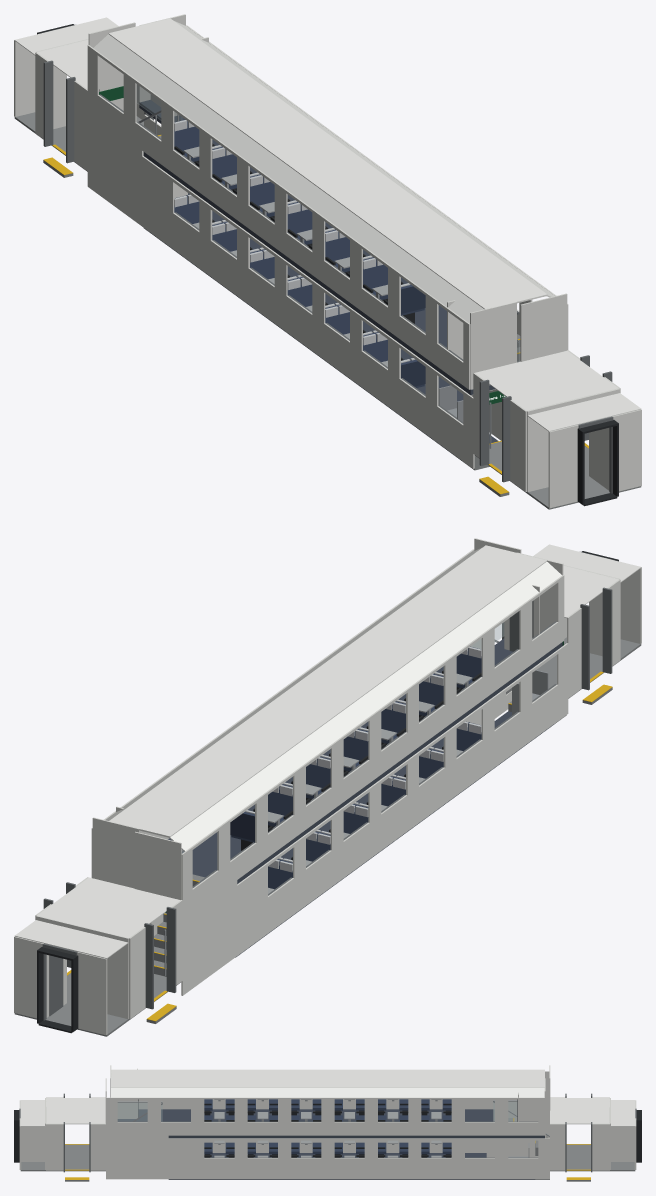
Rendered from ed_sisa_m.glb.
3 views of the same model, one above another, from view 1: azimuth 30°, elevation 25°; view 2: azimuth 150°, elevation 25°; view 3: azimuth 270°, elevation 25° (orthographic). The views are drawn at different scales.
Visible parts, largest first — view 1: sisa_S_seina, sisa_S_katto, sisa_S_verhoilu, sisa_S_kehys, sisa_S_matto, sisa_S_niskatuki, sisa_S_muovimatto, sisa_S_tumma, sisa_S_teras, sisa_S_poyta; view 2: sisa_S_seina, sisa_S_katto, sisa_S_verhoilu, sisa_S_kehys, sisa_S_matto, sisa_S_muovimatto, sisa_S_niskatuki, sisa_S_tumma, sisa_S_poyta, sisa_S_teras; view 3: sisa_S_seina, sisa_S_katto, sisa_S_matto, sisa_S_verhoilu, sisa_S_muovimatto, sisa_S_tumma, sisa_S_poyta, sisa_S_kehys, sisa_S_lasi, sisa_S_teras, sisa_S_askelreuna.
Part boxes in pixels (x1=…): sisa_S_seina: x1=14, y1=14, x2=641, y2=508; sisa_S_katto: x1=14, y1=17, x2=641, y2=431; sisa_S_verhoilu: x1=174, y1=119, x2=425, y2=387; sisa_S_kehys: x1=43, y1=24, x2=613, y2=493; sisa_S_matto: x1=139, y1=100, x2=498, y2=460; sisa_S_niskatuki: x1=174, y1=120, x2=415, y2=363; sisa_S_muovimatto: x1=14, y1=112, x2=641, y2=509; sisa_S_tumma: x1=37, y1=24, x2=618, y2=506; sisa_S_teras: x1=138, y1=110, x2=519, y2=448; sisa_S_poyta: x1=183, y1=146, x2=387, y2=366; sisa_S_seina: x1=14, y1=538, x2=641, y2=1035; sisa_S_katto: x1=15, y1=544, x2=641, y2=958; sisa_S_verhoilu: x1=230, y1=646, x2=481, y2=889; sisa_S_kehys: x1=42, y1=551, x2=612, y2=1020; sisa_S_matto: x1=168, y1=638, x2=562, y2=957; sisa_S_muovimatto: x1=14, y1=637, x2=641, y2=1036; sisa_S_niskatuki: x1=245, y1=647, x2=481, y2=872; sisa_S_tumma: x1=37, y1=551, x2=618, y2=1033; sisa_S_poyta: x1=268, y1=673, x2=472, y2=893; sisa_S_teras: x1=163, y1=639, x2=548, y2=975; sisa_S_seina: x1=19, y1=1065, x2=636, y2=1179; sisa_S_katto: x1=20, y1=1069, x2=635, y2=1126; sisa_S_matto: x1=117, y1=1109, x2=544, y2=1179; sisa_S_verhoilu: x1=204, y1=1099, x2=451, y2=1154; sisa_S_muovimatto: x1=20, y1=1109, x2=635, y2=1181; sisa_S_tumma: x1=14, y1=1103, x2=641, y2=1162; sisa_S_poyta: x1=214, y1=1099, x2=441, y2=1157; sisa_S_kehys: x1=19, y1=1093, x2=636, y2=1172; sisa_S_lasi: x1=118, y1=1101, x2=516, y2=1121; sisa_S_teras: x1=117, y1=1100, x2=549, y2=1157; sisa_S_askelreuna: x1=65, y1=1118, x2=590, y2=1179.
Size of the model in its own units: 3.1 by 4.06 by 26.04.
